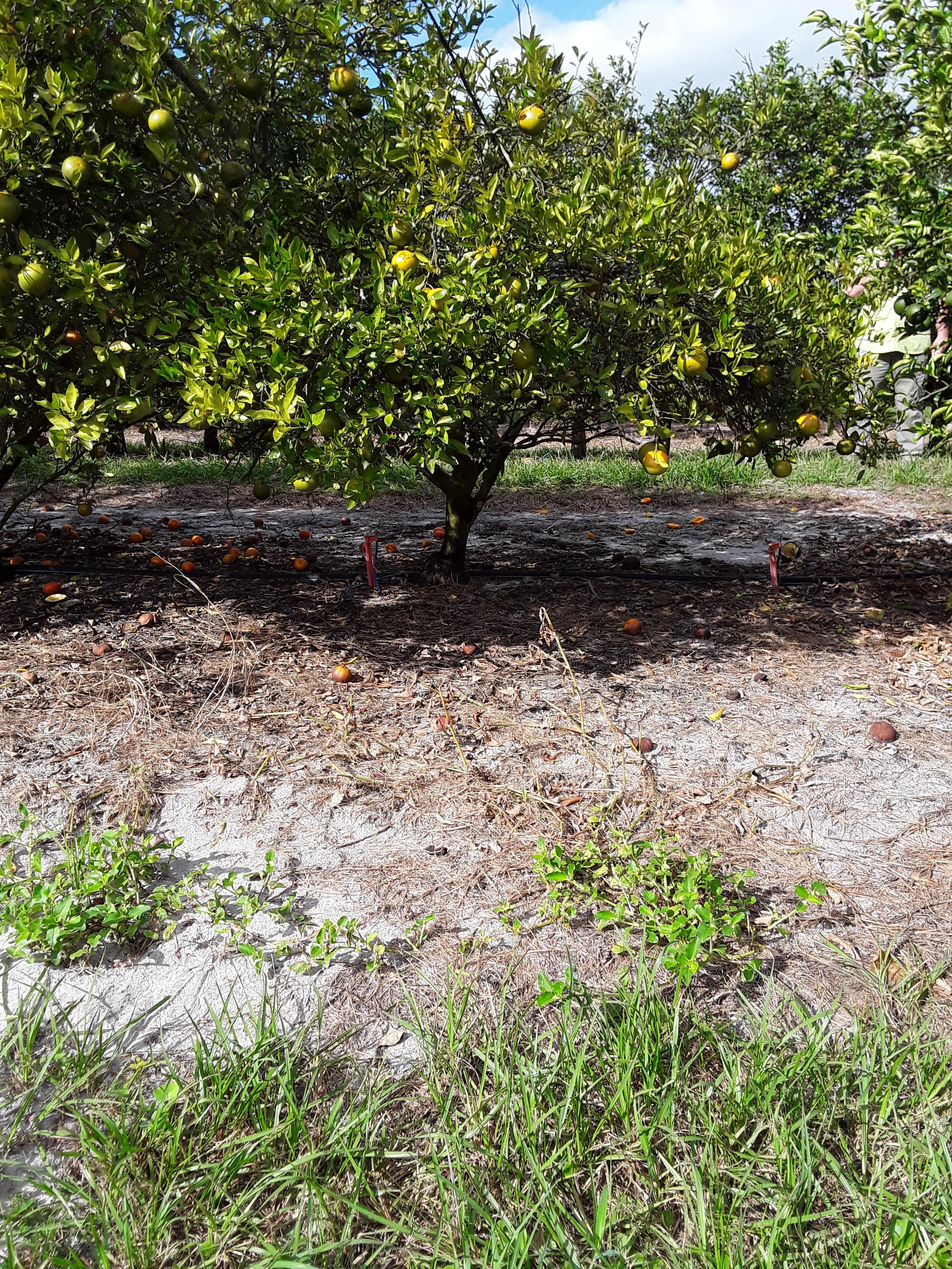fruit_on_ground: (107, 82, 153, 119), (17, 260, 53, 301), (58, 151, 93, 188), (513, 103, 551, 137), (233, 66, 268, 101), (471, 235, 506, 270), (640, 445, 677, 477), (0, 187, 29, 227), (381, 216, 416, 249), (744, 358, 777, 392), (326, 65, 361, 96), (312, 406, 346, 437), (795, 403, 824, 437), (422, 284, 454, 314), (219, 156, 248, 189), (60, 20, 94, 48), (680, 347, 711, 377), (287, 468, 323, 493), (634, 440, 670, 465), (346, 93, 376, 121), (146, 107, 176, 135), (904, 297, 932, 327), (499, 272, 526, 303), (382, 356, 413, 383), (515, 337, 541, 369), (888, 292, 918, 318), (391, 250, 419, 276), (716, 150, 744, 176), (754, 415, 780, 442), (736, 432, 762, 457), (771, 452, 794, 479), (835, 432, 856, 459), (73, 498, 97, 520), (252, 478, 273, 500), (716, 434, 734, 458), (62, 327, 83, 347), (848, 401, 868, 422), (226, 430, 242, 453), (767, 180, 786, 199), (824, 161, 841, 179), (102, 304, 120, 320)
fruit_on_tree: (866, 719, 898, 744), (330, 662, 351, 685), (621, 618, 644, 637), (461, 640, 482, 656), (290, 555, 308, 572), (40, 582, 61, 595), (137, 613, 155, 626), (149, 554, 167, 566), (383, 540, 398, 554), (191, 532, 205, 546), (244, 547, 261, 558), (228, 545, 241, 559), (297, 528, 311, 541), (9, 554, 23, 567), (181, 561, 196, 573), (690, 515, 706, 526), (34, 531, 48, 543), (245, 531, 257, 545), (250, 517, 265, 528), (168, 517, 180, 530), (222, 553, 235, 565), (128, 532, 143, 542), (277, 532, 289, 544), (139, 526, 152, 537), (432, 529, 445, 540), (119, 517, 133, 527), (666, 521, 680, 531), (638, 496, 652, 506), (339, 516, 351, 527), (431, 526, 444, 536), (623, 526, 637, 535), (62, 523, 73, 534), (97, 514, 109, 524), (180, 537, 192, 547), (306, 552, 318, 562), (359, 540, 369, 552), (39, 558, 51, 568), (42, 504, 55, 513), (222, 538, 234, 547), (420, 538, 432, 547), (68, 530, 78, 539), (268, 534, 278, 542)
